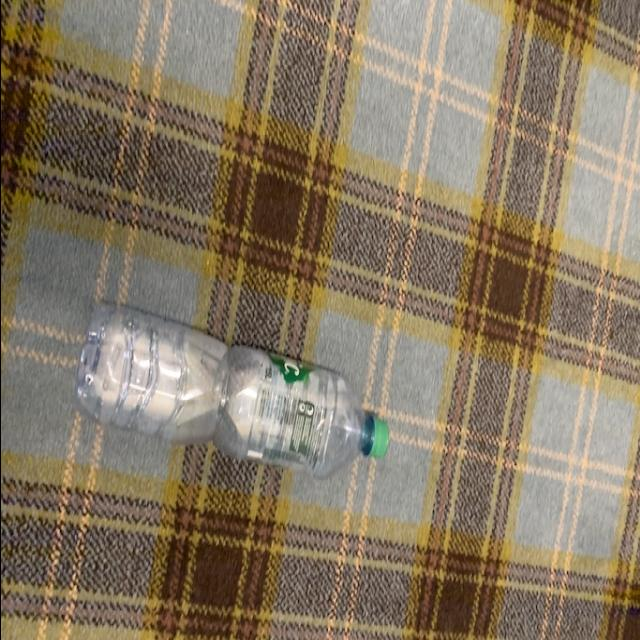PET: (71, 304, 387, 482)
